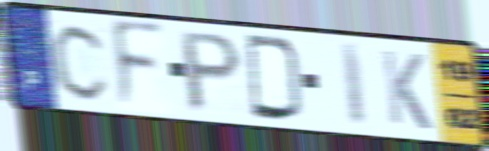C: (49, 21, 112, 104)
D: (243, 31, 307, 125)
F: (109, 17, 167, 114)
I: (339, 41, 369, 129)
K: (379, 47, 434, 133)
P: (179, 29, 245, 115)
